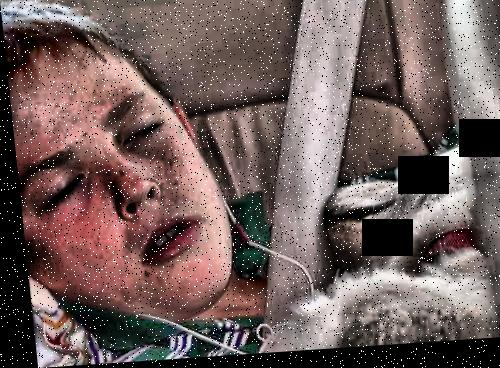seatbelt: (205, 0, 417, 317)
